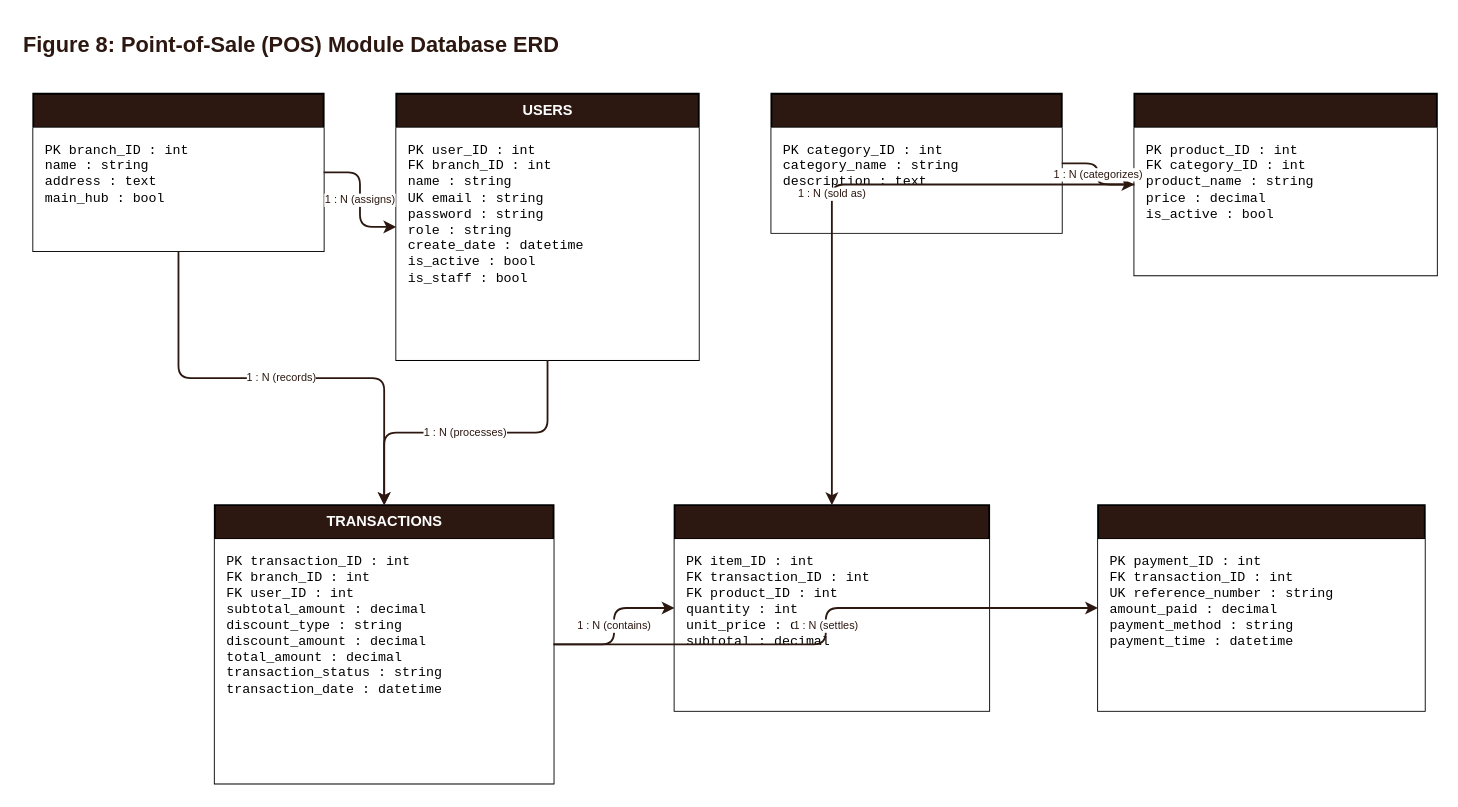
Image size: 1458x807. Some labels were removed from this diagram. The box of each missing label's shape, as (x1, y1, x2, y2) in pixels:
BRANCHES: (32, 92, 324, 251)
PAYMENT_RECORDS: (1097, 504, 1425, 711)
PRODUCT_CATEGORIES: (770, 92, 1062, 233)
PRODUCTS: (1133, 92, 1437, 276)
TRANSACTION_ITEMS: (673, 504, 990, 711)
